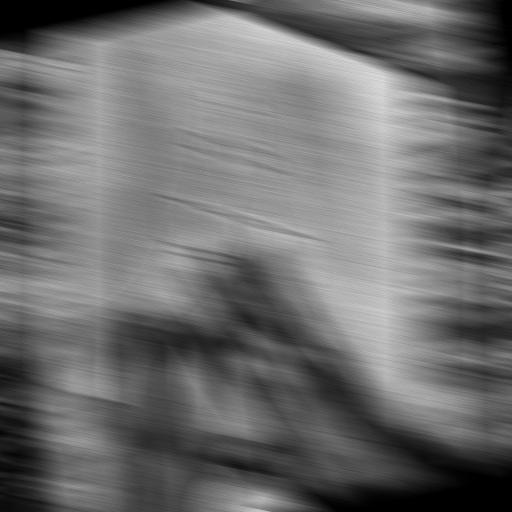bottom_right: (46, 377, 75, 395)
eiffel-tower: (101, 22, 375, 410)
top_left: (406, 71, 433, 88)
